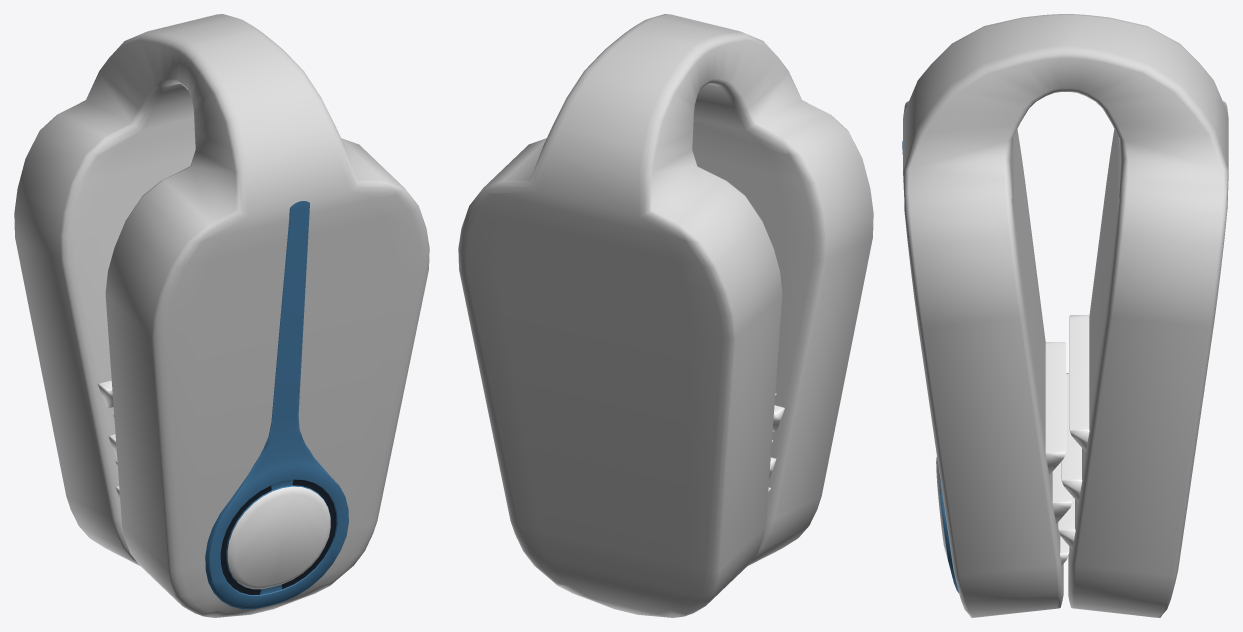
File: FALL TRACKER.fbx
The picture shows the model from 3 angles, left to right: view 1: azimuth 30°, elevation 25°; view 2: azimuth 150°, elevation 25°; view 3: azimuth 270°, elevation 25°; orthographic projection. The views are drawn at different scales.
Parts seen in each view (by area): view 1: Cube, Circle; view 2: Cube; view 3: Cube, Cube.002, Circle.
Part boxes in pixels (x1,y1,x2,y2): Cube: [14, 14, 429, 617]; Circle: [205, 201, 348, 609]; Cube: [458, 14, 873, 617]; Cube: [903, 14, 1228, 617]; Cube.002: [1045, 315, 1089, 565]; Circle: [902, 141, 958, 592].
Size of the model in its own units: 4.5 by 8.45 by 4.39.
